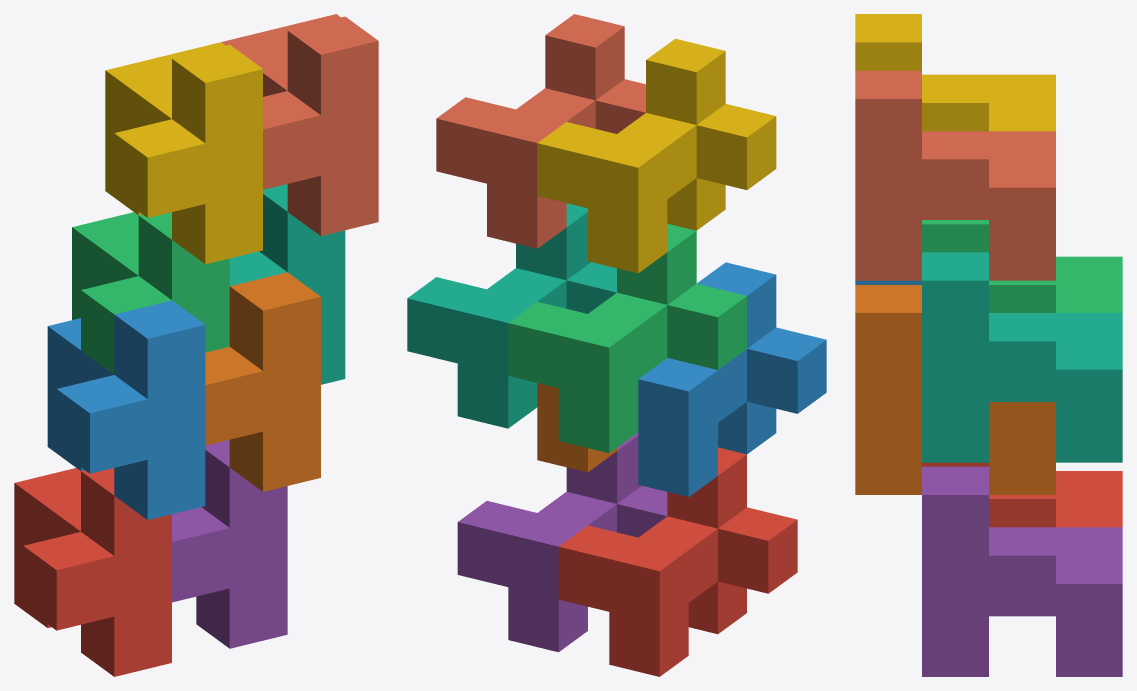
The model's file is tiling.obj.
The picture shows the model from 3 angles, left to right: view 1: azimuth 30°, elevation 25°; view 2: azimuth 150°, elevation 25°; view 3: azimuth 270°, elevation 25°; orthographic projection. The views are drawn at different scales.
Parts seen in each view (by area): view 1: copy_1_domain_4, copy_1_domain_2, copy_1_domain_1, copy_1_domain_8, copy_1_domain_6, copy_1_domain_5, copy_1_domain_3, copy_1_domain_7; view 2: copy_1_domain_4, copy_1_domain_1, copy_1_domain_3, copy_1_domain_2, copy_1_domain_8, copy_1_domain_7, copy_1_domain_5, copy_1_domain_6; view 3: copy_1_domain_5, copy_1_domain_7, copy_1_domain_8, copy_1_domain_6, copy_1_domain_4, copy_1_domain_3, copy_1_domain_1.
Part boxes in pixels (x1=…): copy_1_domain_4: x1=105, y1=42, x2=262, y2=264; copy_1_domain_2: x1=47, y1=300, x2=205, y2=519; copy_1_domain_1: x1=14, y1=468, x2=171, y2=676; copy_1_domain_8: x1=221, y1=14, x2=378, y2=235; copy_1_domain_6: x1=205, y1=272, x2=320, y2=491; copy_1_domain_5: x1=172, y1=440, x2=287, y2=648; copy_1_domain_3: x1=72, y1=212, x2=229, y2=374; copy_1_domain_7: x1=229, y1=184, x2=345, y2=384; copy_1_domain_4: x1=537, y1=38, x2=776, y2=273; copy_1_domain_1: x1=558, y1=447, x2=797, y2=676; copy_1_domain_3: x1=508, y1=223, x2=746, y2=452; copy_1_domain_2: x1=638, y1=262, x2=826, y2=496; copy_1_domain_8: x1=436, y1=14, x2=645, y2=248; copy_1_domain_7: x1=407, y1=203, x2=616, y2=428; copy_1_domain_5: x1=457, y1=432, x2=667, y2=652; copy_1_domain_6: x1=537, y1=383, x2=616, y2=472; copy_1_domain_5: x1=922, y1=466, x2=1122, y2=676; copy_1_domain_7: x1=922, y1=252, x2=1122, y2=462; copy_1_domain_8: x1=855, y1=70, x2=1055, y2=280; copy_1_domain_6: x1=855, y1=285, x2=1055, y2=494; copy_1_domain_4: x1=855, y1=14, x2=1055, y2=131; copy_1_domain_3: x1=922, y1=220, x2=1122, y2=312; copy_1_domain_1: x1=922, y1=462, x2=1122, y2=527.
Bounding box in the file's own units: 6 × 10 × 4.
